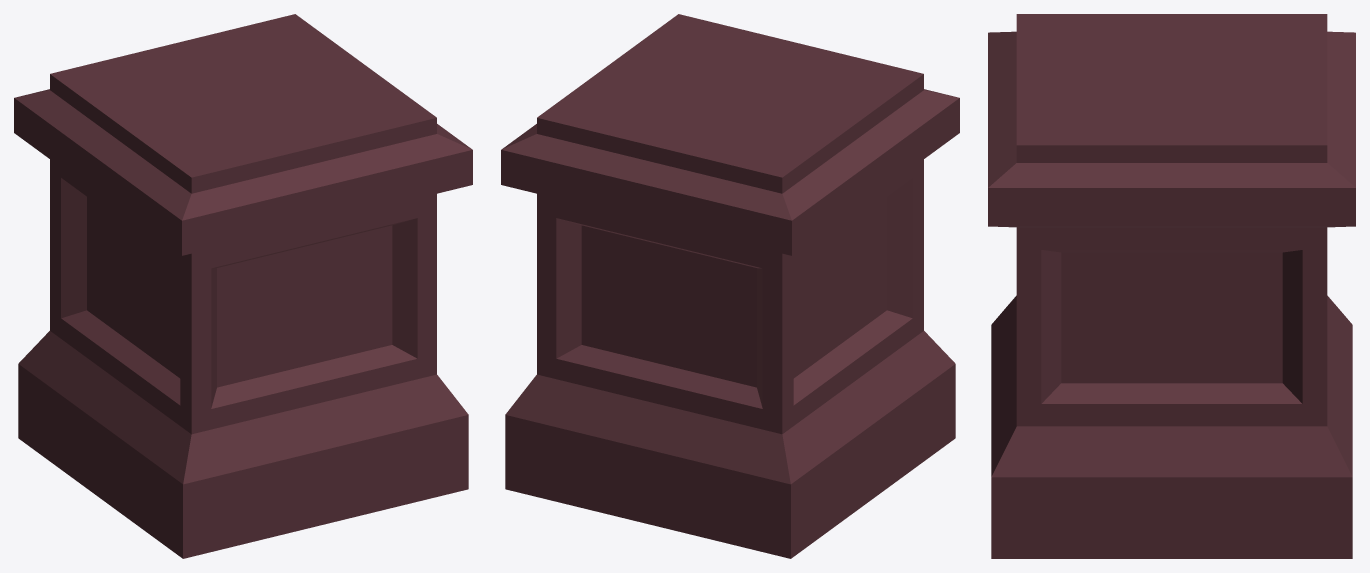
The model's file is empire-statue-stand-small-empire.glb.
3 views of the same model, side by side, from view 1: azimuth 30°, elevation 25°; view 2: azimuth 150°, elevation 25°; view 3: azimuth 270°, elevation 25° (orthographic). The views are drawn at different scales.
Visible parts, largest first — view 1: SM_Statue_Stand_Small_Empire; view 2: SM_Statue_Stand_Small_Empire; view 3: SM_Statue_Stand_Small_Empire.
Boxes of the visible parts, x1,y1,x2,y2 form: SM_Statue_Stand_Small_Empire: (14, 14, 472, 558); SM_Statue_Stand_Small_Empire: (501, 14, 959, 558); SM_Statue_Stand_Small_Empire: (988, 14, 1355, 558).
Size of the model in its own units: 0.8297 by 1 by 0.8297.
